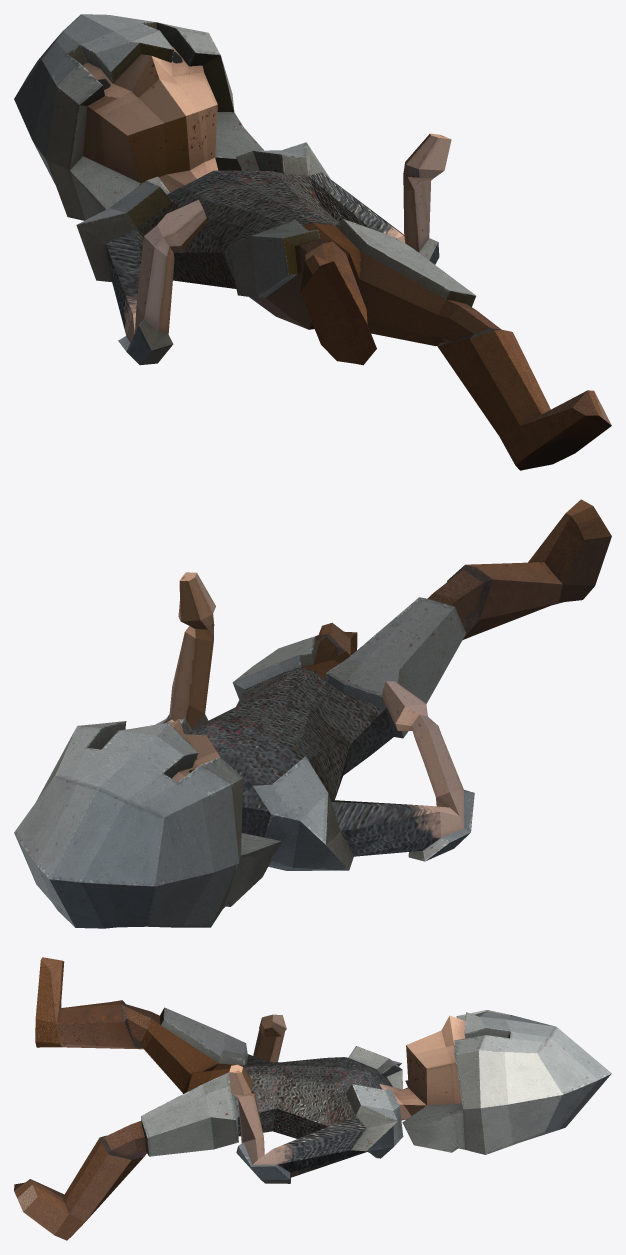
File: Walk_Soldier_5.obj
3 views of the same model, one above another, from view 1: azimuth 30°, elevation 25°; view 2: azimuth 150°, elevation 25°; view 3: azimuth 270°, elevation 25° (orthographic). The views are drawn at different scales.
Visible parts, largest first — view 1: Soldado_LowPolySTD; view 2: Soldado_LowPolySTD; view 3: Soldado_LowPolySTD.
Boxes of the visible parts, x1,y1,x2,y2 form: Soldado_LowPolySTD: (14,14,611,470); Soldado_LowPolySTD: (14,499,611,928); Soldado_LowPolySTD: (14,957,611,1240).
Size of the model in its own units: 0.7156 by 0.5999 by 1.63.
